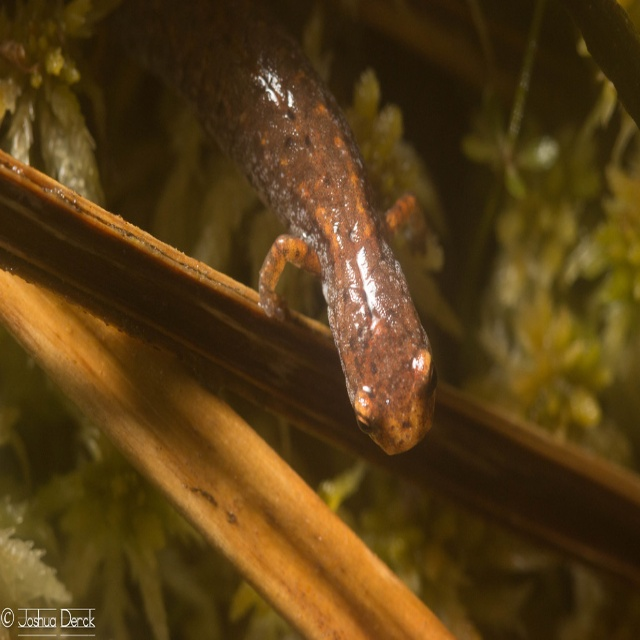Lizard: (117, 0, 438, 455)
